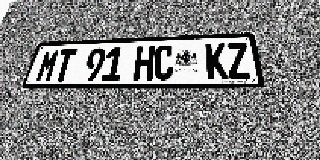1: (101, 47, 124, 81)
9: (83, 48, 107, 81)
C: (153, 45, 174, 80)
H: (133, 46, 155, 81)
K: (205, 43, 229, 80)
M: (35, 50, 61, 82)
T: (52, 49, 77, 82)
Z: (226, 42, 252, 79)
